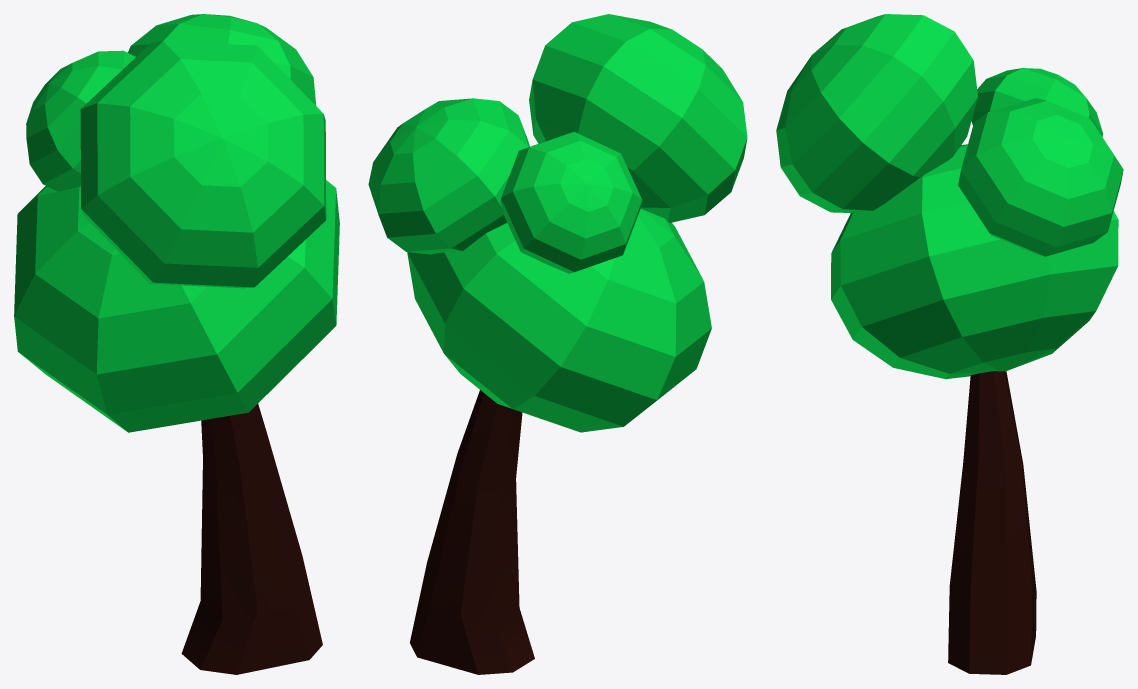
File: tree_03.fbx
The picture shows the model from 3 angles, left to right: view 1: azimuth 30°, elevation 25°; view 2: azimuth 150°, elevation 25°; view 3: azimuth 270°, elevation 25°; orthographic projection. The views are drawn at different scales.
Parts seen in each view (by area): view 1: tree_03; view 2: tree_03; view 3: tree_03.
Boxes of the visible parts, x1=… form: tree_03: x1=14, y1=14, x2=339, y2=674; tree_03: x1=368, y1=14, x2=747, y2=674; tree_03: x1=776, y1=14, x2=1123, y2=674.
Size of the model in its own units: 1316 by 2778 by 1509.
